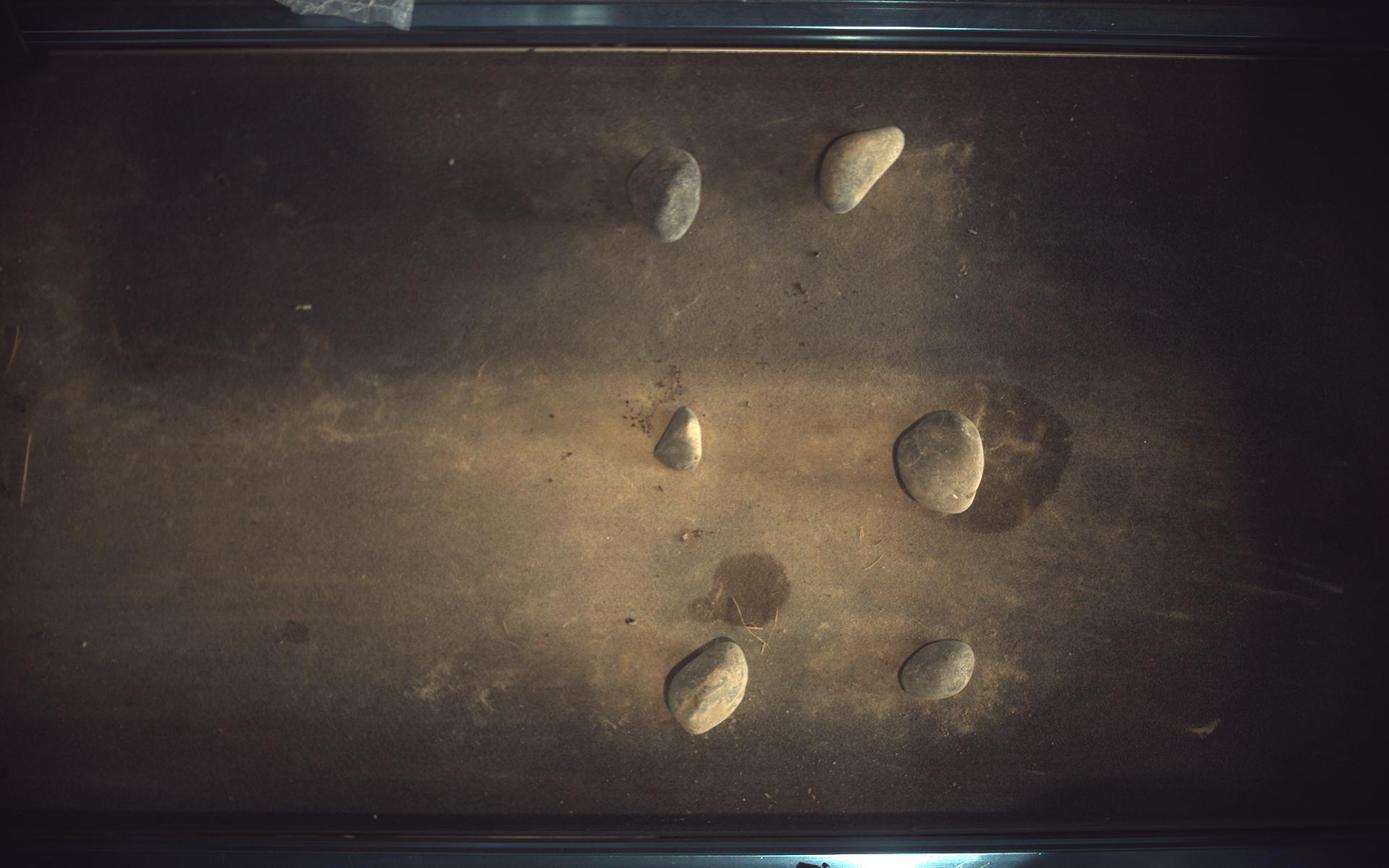stone: (896, 410, 986, 514), (668, 638, 749, 736), (821, 125, 906, 213), (627, 145, 702, 242), (900, 641, 977, 701), (655, 407, 702, 471)
